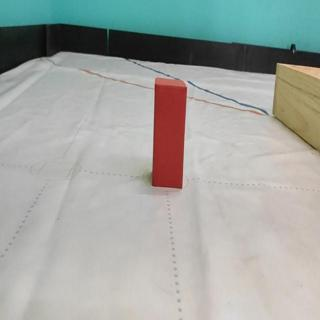redbox: (151, 75, 187, 189)
